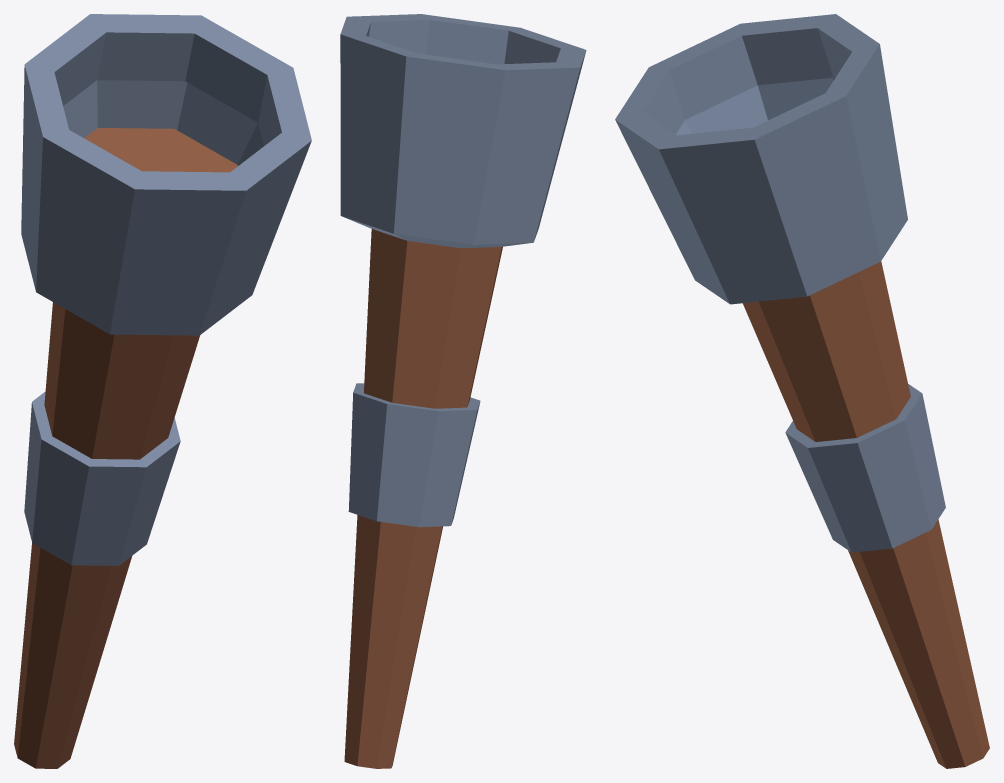
File: torch.fbx
3 views of the same model, side by side, from view 1: azimuth 30°, elevation 25°; view 2: azimuth 150°, elevation 25°; view 3: azimuth 270°, elevation 25° (orthographic). The views are drawn at different scales.
Visible parts, largest first — view 1: Torch; view 2: Torch; view 3: Torch.
Boxes of the visible parts, x1,y1,x2,y2 form: Torch: (14,14,311,768); Torch: (340,14,586,768); Torch: (615,14,989,768).
Bounding box in the file's own units: 28.77 × 82.84 × 39.11.
